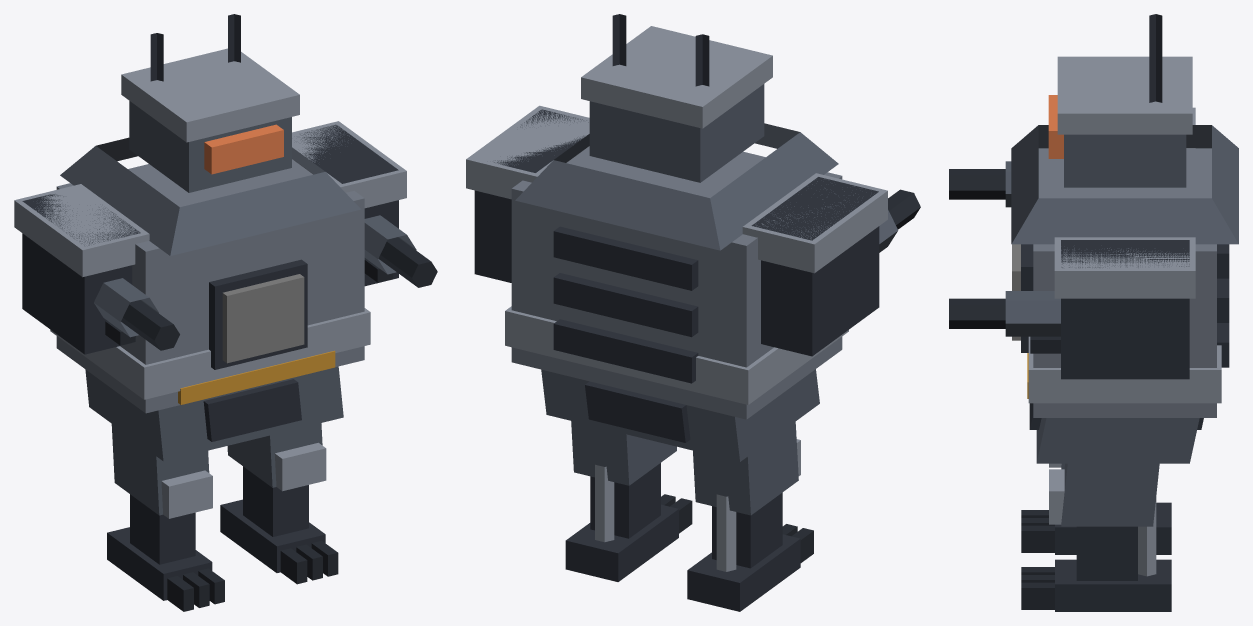
Rendered from heavy-attack-0.obj.
3 renders of one model, left to right at view 1: azimuth 30°, elevation 25°; view 2: azimuth 150°, elevation 25°; view 3: azimuth 270°, elevation 25°, orthographic. The views are drawn at different scales.
Parts seen in each view (by area): view 1: heavy-attack-0; view 2: heavy-attack-0; view 3: heavy-attack-0.
Boxes of the visible parts, box(x1,y1,x2,y2) form: heavy-attack-0: box(14, 14, 437, 611); heavy-attack-0: box(466, 14, 920, 611); heavy-attack-0: box(949, 14, 1238, 611).
Size of the model in its own units: 2.52 by 3.85 by 1.89.
